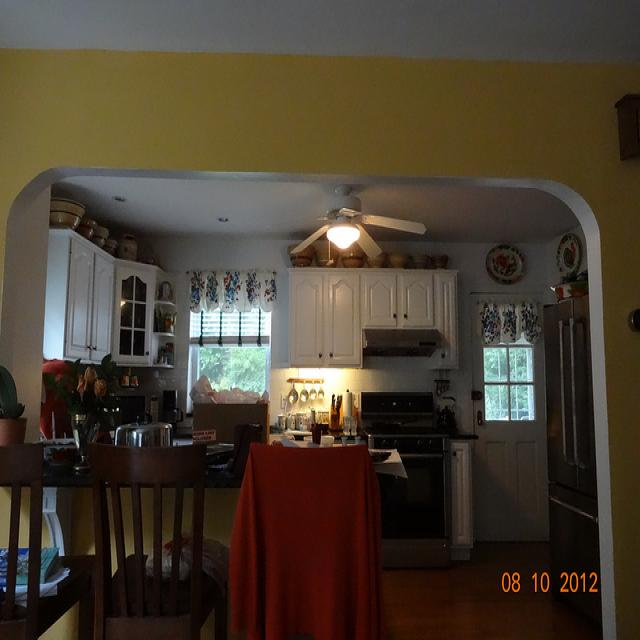Bottle: (322, 390, 353, 445)
chair: (220, 441, 371, 640), (82, 440, 220, 640), (0, 437, 54, 640)
